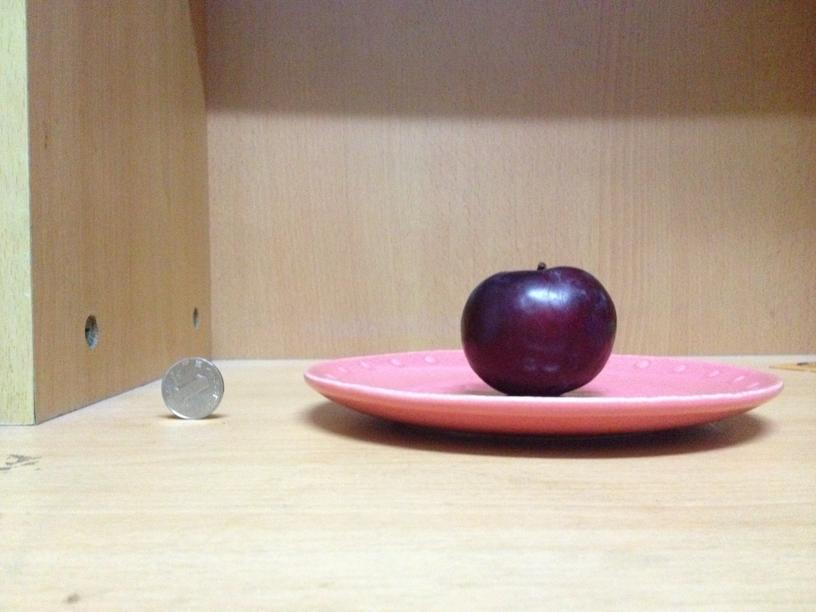coin: (159, 359, 224, 420)
plum: (459, 260, 615, 391)
